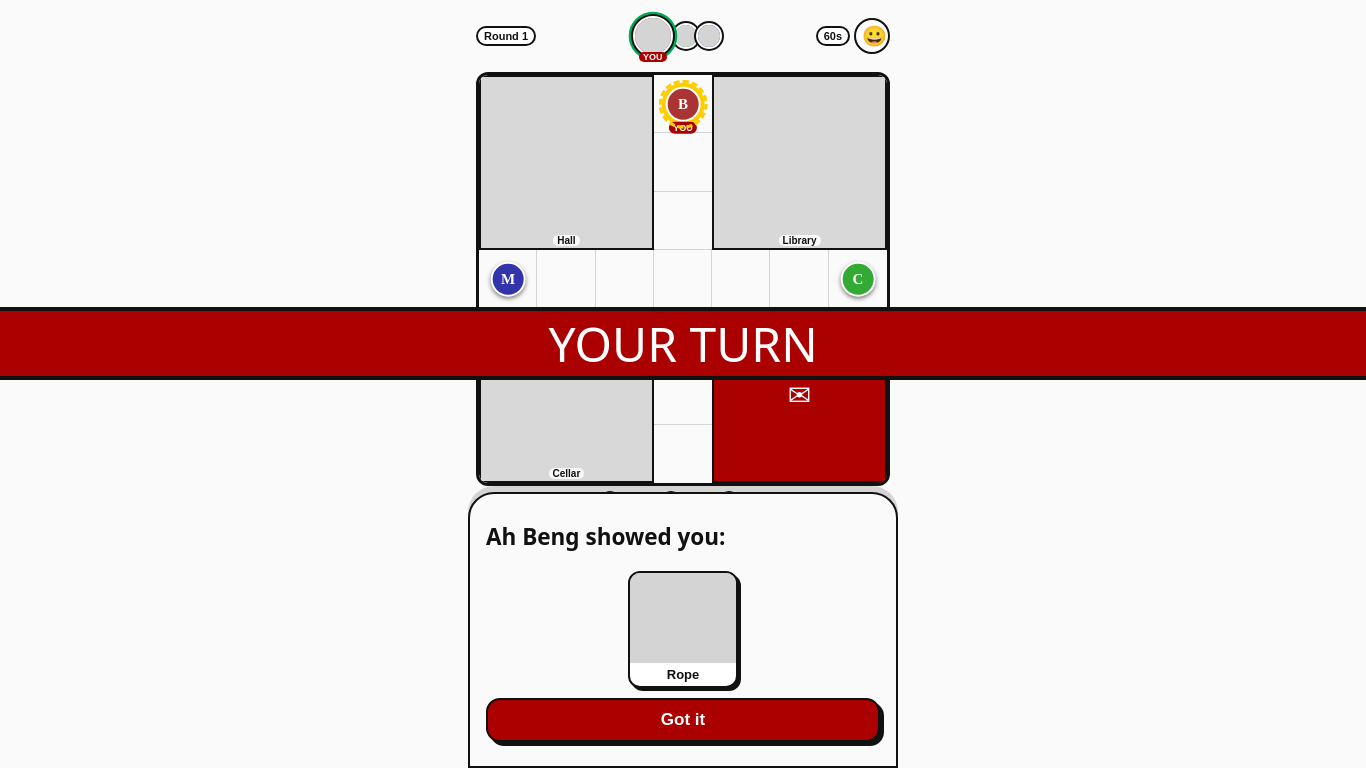
Test: Play › a card shown to me is revealed privately until I dismiss it
Expected: the text "Rope" is shown, [667,667,699,682]
Click the button "Got it" at x=683, y=720, box [486,698,880,742]
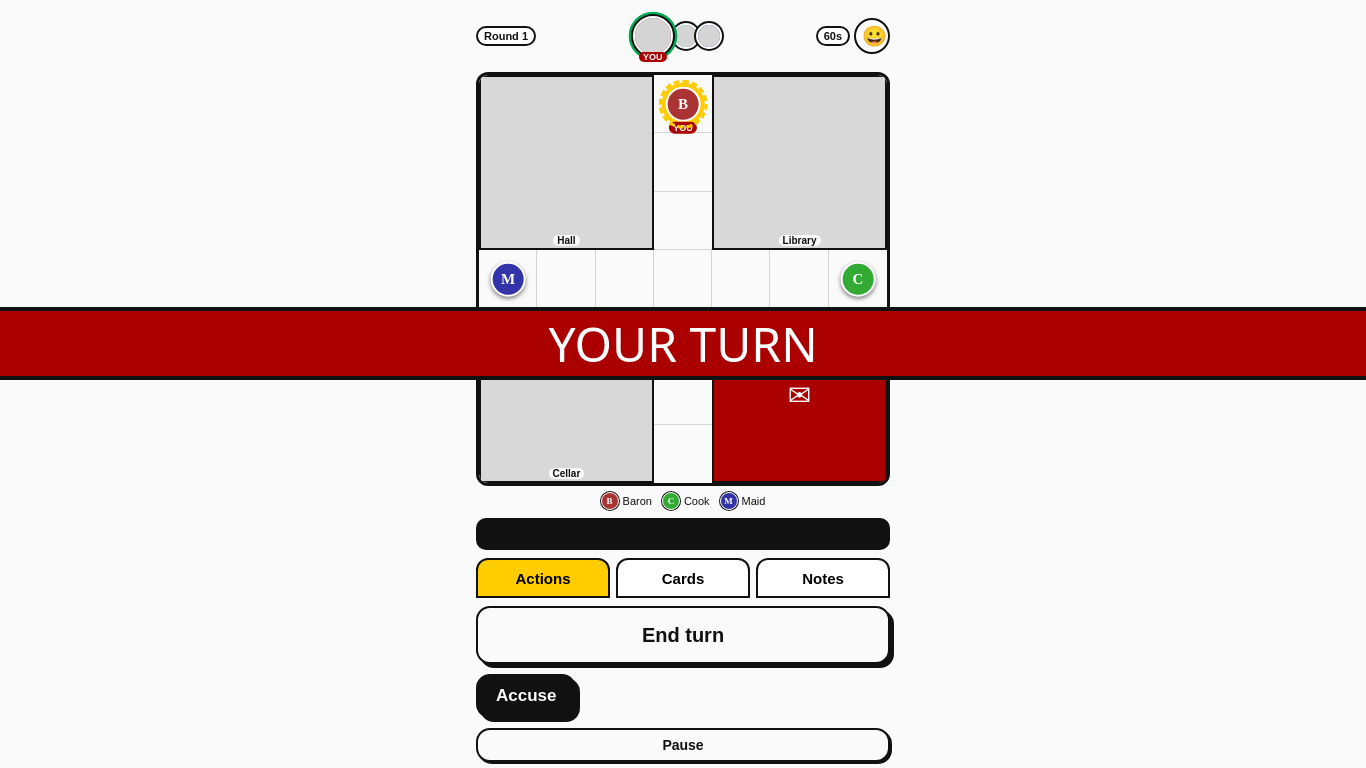
Now the dialog is gone
